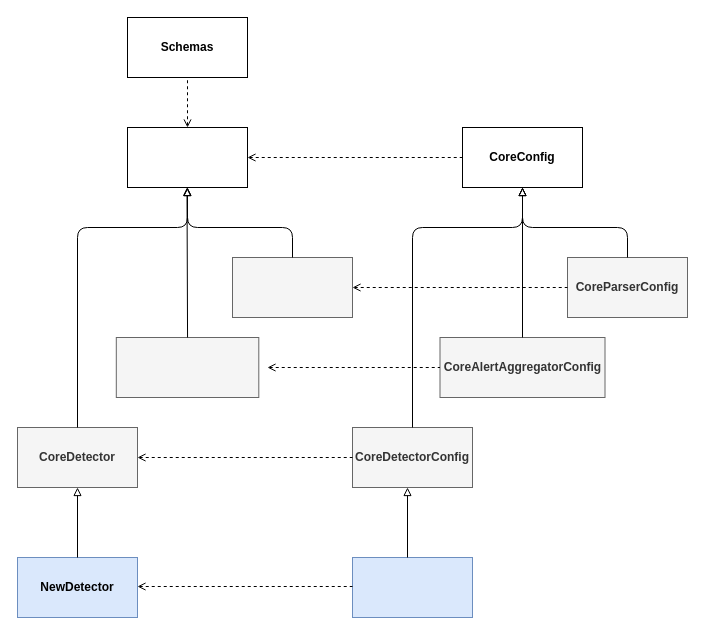
This 705x635 diagram has some shape labels left out. Each missing label, with the centre of its shape:
"CoreAlertAggregator" belongs at pixel 187 367.
"CoreComponent" belongs at pixel 187 157.
"CoreParser" belongs at pixel 292 287.
"NewDetectorConfig" belongs at pixel 412 587.
